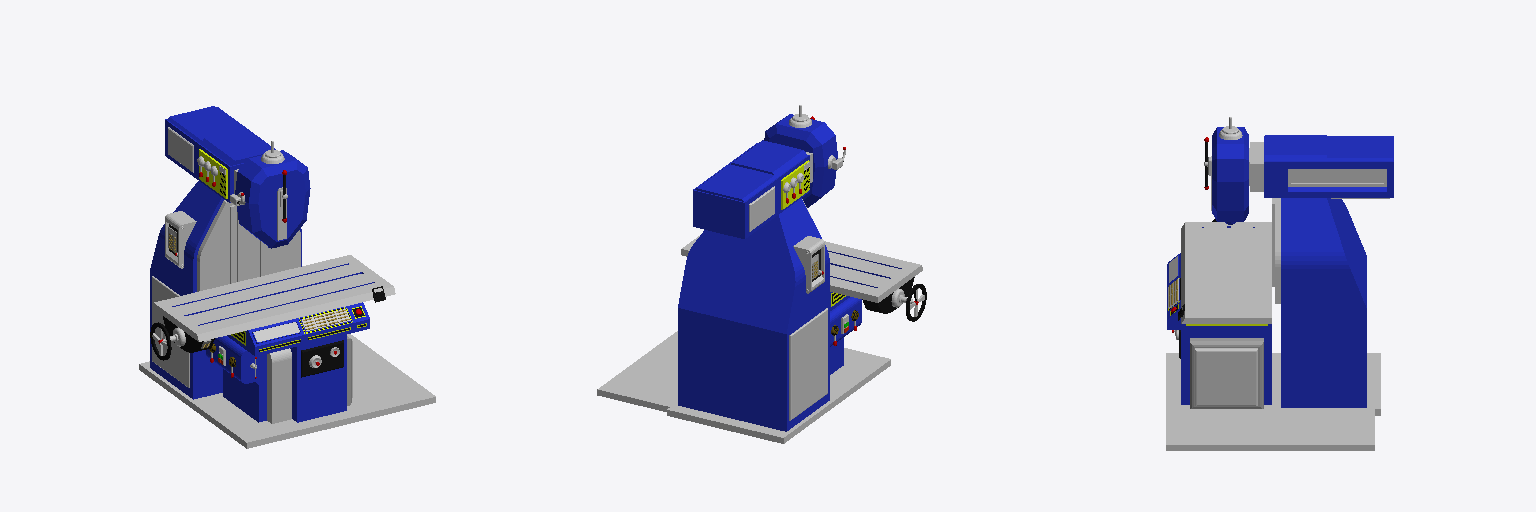
The model's file is stanok.obj.
3 renders of one model, left to right at view 1: azimuth 30°, elevation 25°; view 2: azimuth 150°, elevation 25°; view 3: azimuth 270°, elevation 25°, orthographic.
Visible parts, largest first — view 1: Cube_Cube.001, Cube.005_Cube.006, Cube.001_Cube.004, Cube.003; view 2: Cube_Cube.001, Cube.005_Cube.006, Cube.001_Cube.004; view 3: Cube_Cube.001, Cube.005_Cube.006, Cube.001_Cube.004.
Boxes of the visible parts, x1=… form: Cube_Cube.001: x1=139, y1=106, x2=435, y2=448; Cube.005_Cube.006: x1=154, y1=255, x2=395, y2=423; Cube.001_Cube.004: x1=235, y1=150, x2=310, y2=248; Cube.003: x1=230, y1=205, x2=272, y2=283; Cube_Cube.001: x1=597, y1=140, x2=890, y2=443; Cube.005_Cube.006: x1=681, y1=236, x2=922, y2=374; Cube.001_Cube.004: x1=764, y1=114, x2=837, y2=207; Cube_Cube.001: x1=1166, y1=135, x2=1393, y2=450; Cube.005_Cube.006: x1=1167, y1=222, x2=1271, y2=408; Cube.001_Cube.004: x1=1208, y1=127, x2=1248, y2=224.
Size of the model in its own units: 4.22 by 4.42 by 3.39.